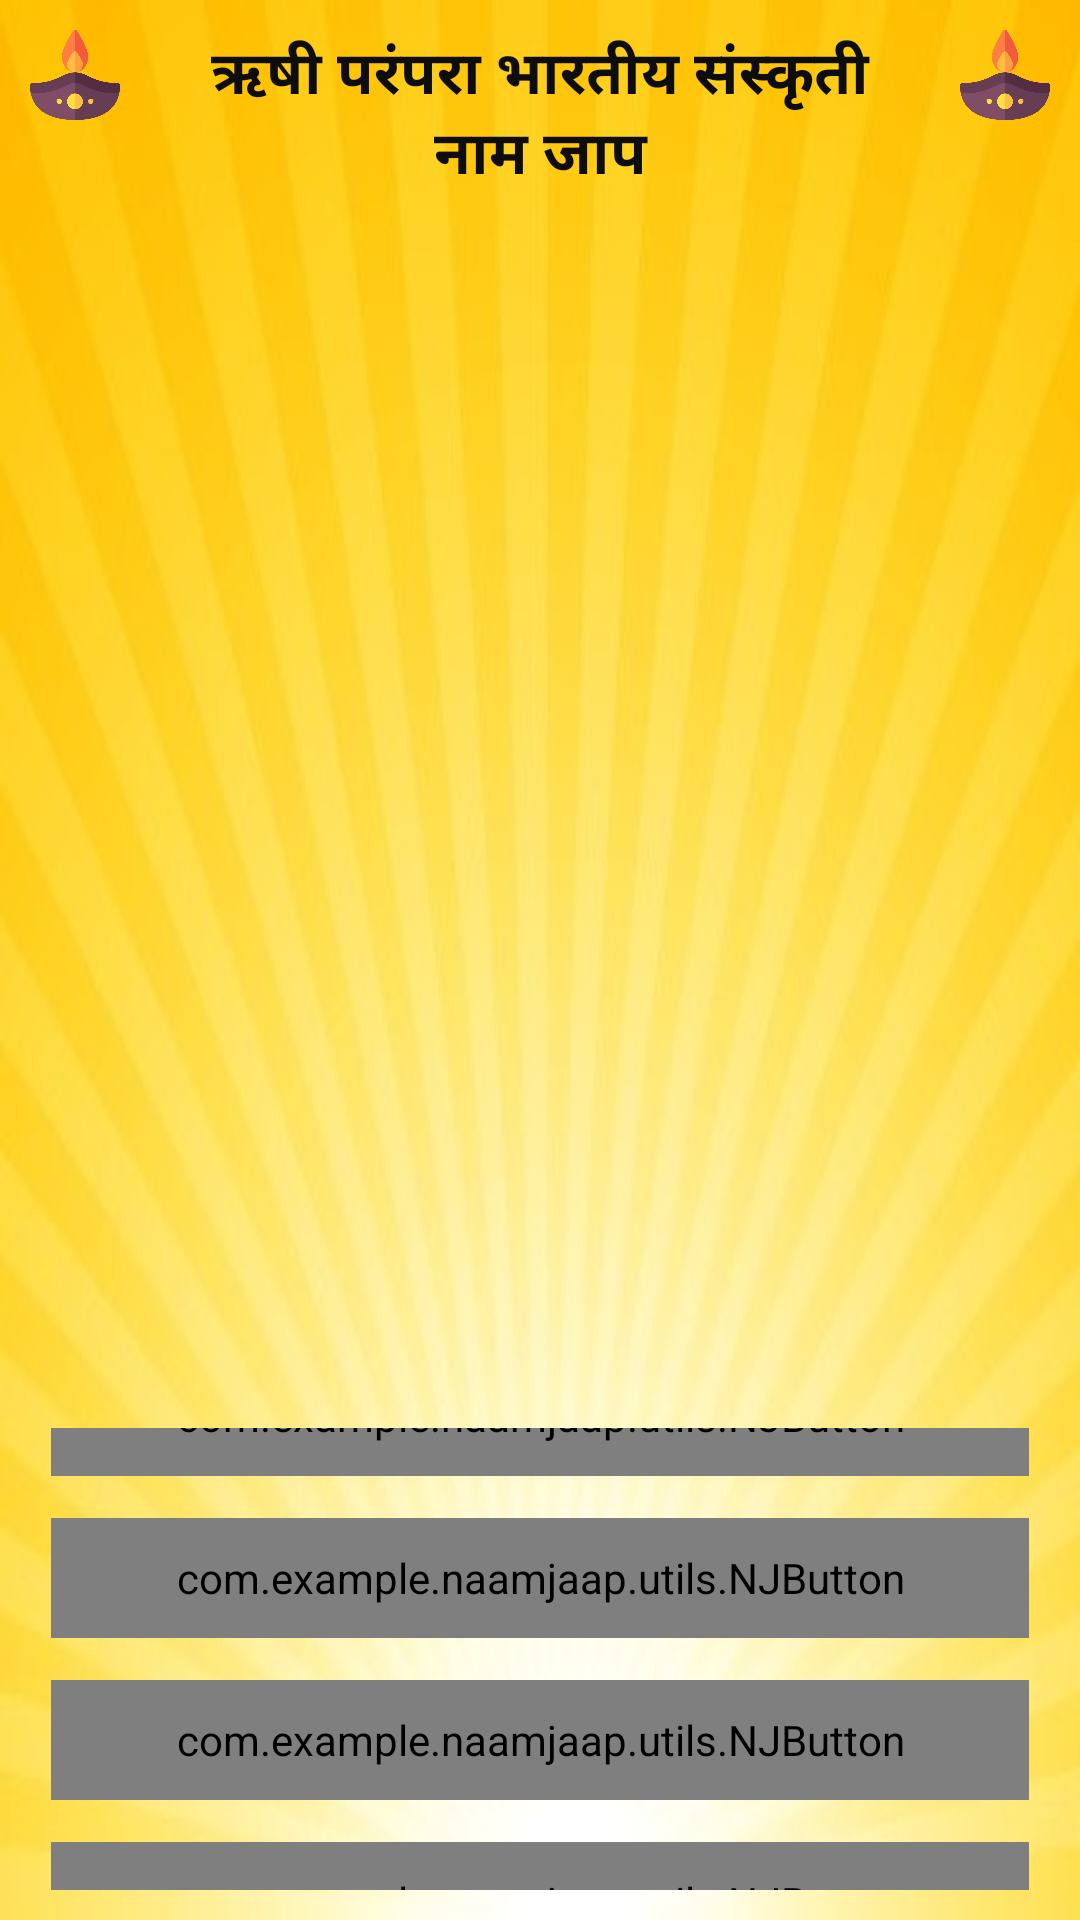

Point at icon controls on the screen. Image size 1080px x 1920px, points as (x=x, y=y).
lamp: (x=75, y=75), (x=1005, y=75)
